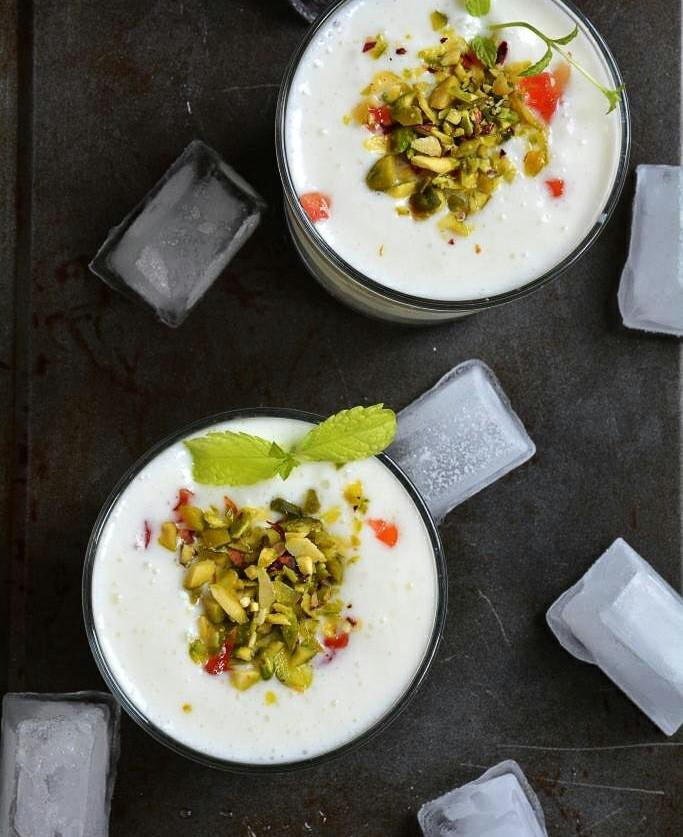Lassi: (91, 402, 436, 763), (287, 0, 620, 303)
